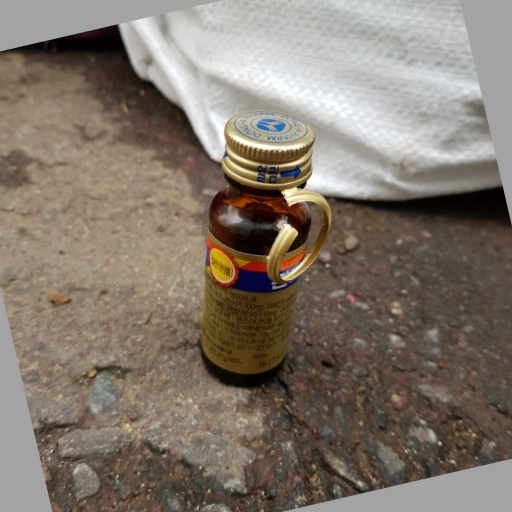Glass_3: (192, 105, 330, 384)
